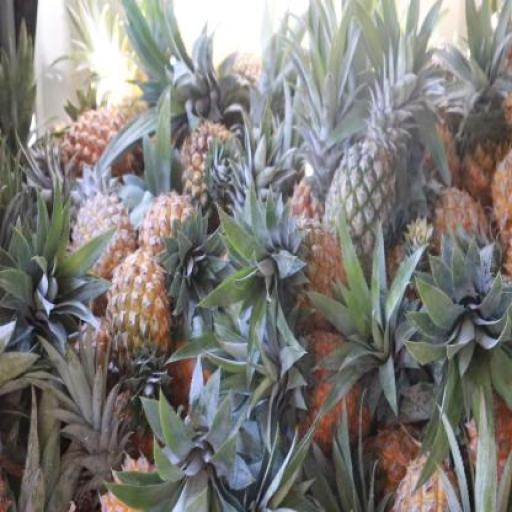Pineapple - v8 v1: (111, 255, 172, 380)
